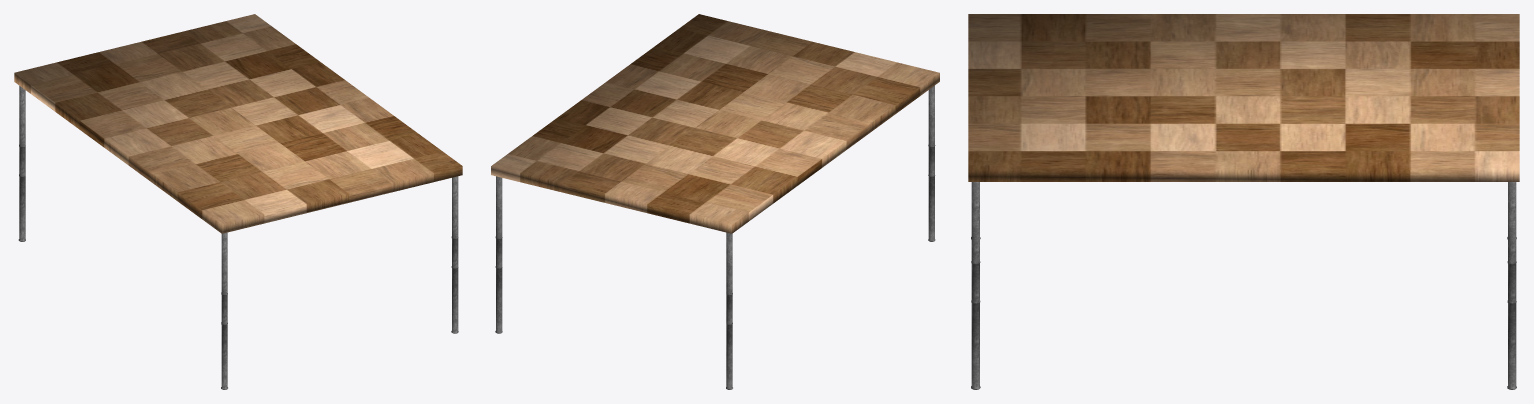
The model's file is table3.fbx.
3 views of the same model, side by side, from view 1: azimuth 30°, elevation 25°; view 2: azimuth 150°, elevation 25°; view 3: azimuth 270°, elevation 25° (orthographic). The views are drawn at different scales.
Parts seen in each view (by area): view 1: Table_lowpoly_Cube, Table_lowpoly_Cube.001; view 2: Table_lowpoly_Cube, Table_lowpoly_Cube.001; view 3: Table_lowpoly_Cube, Table_lowpoly_Cube.001.
Part boxes in pixels (x1=…): Table_lowpoly_Cube: x1=14, y1=14, x2=462, y2=233; Table_lowpoly_Cube.001: x1=18, y1=86, x2=458, y2=389; Table_lowpoly_Cube: x1=491, y1=14, x2=939, y2=233; Table_lowpoly_Cube.001: x1=495, y1=85, x2=935, y2=389; Table_lowpoly_Cube: x1=968, y1=14, x2=1519, y2=181; Table_lowpoly_Cube.001: x1=971, y1=182, x2=1516, y2=389.
Size of the model in its own units: 3377 by 2239 by 5046.
2 materials, 2 textured.
